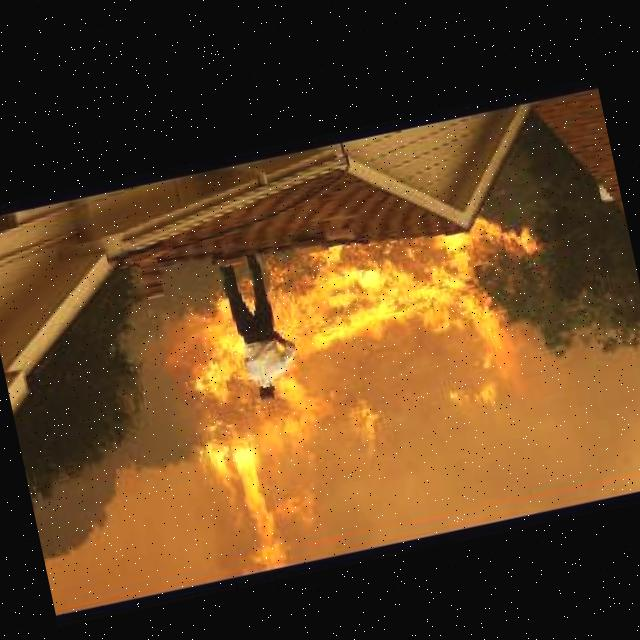fire: (283, 216, 537, 447), (191, 378, 346, 570)
